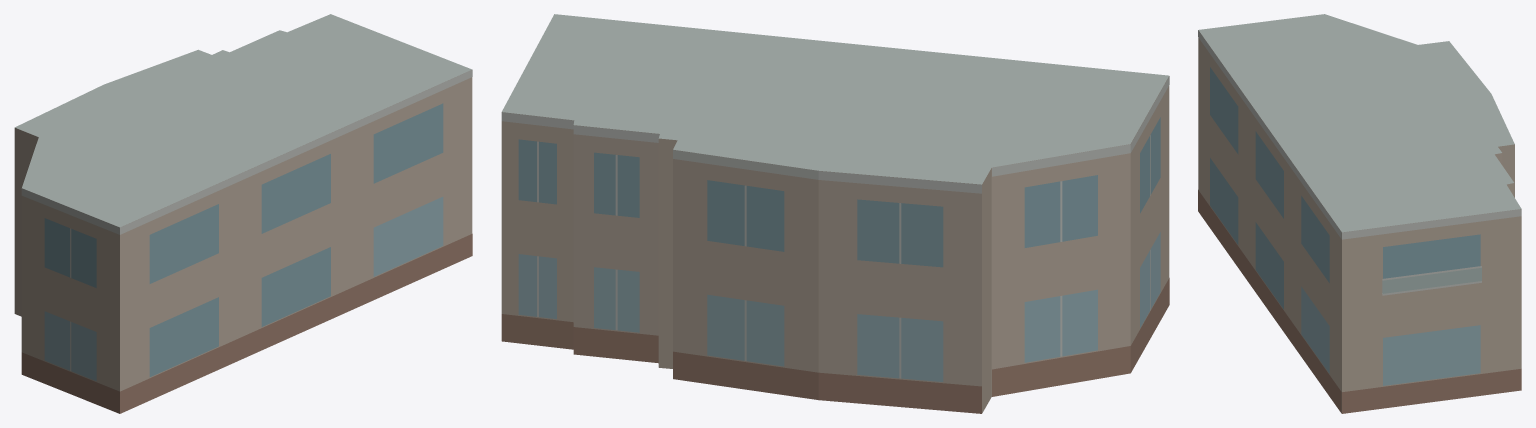
Rendered from survey-upis-32655867.glb.
The picture shows the model from 3 angles, left to right: view 1: azimuth 30°, elevation 25°; view 2: azimuth 150°, elevation 25°; view 3: azimuth 270°, elevation 25°; orthographic projection. The views are drawn at different scales.
Visible parts, largest first — view 1: survey-upis-32655867.tmp; view 2: survey-upis-32655867.tmp; view 3: survey-upis-32655867.tmp.
Part boxes in pixels (x1,y1,x2,y2): survey-upis-32655867.tmp: [14, 14, 472, 413]; survey-upis-32655867.tmp: [501, 14, 1169, 413]; survey-upis-32655867.tmp: [1198, 14, 1521, 413].
Size of the model in its own units: 15.75 by 6.1 by 9.86.
